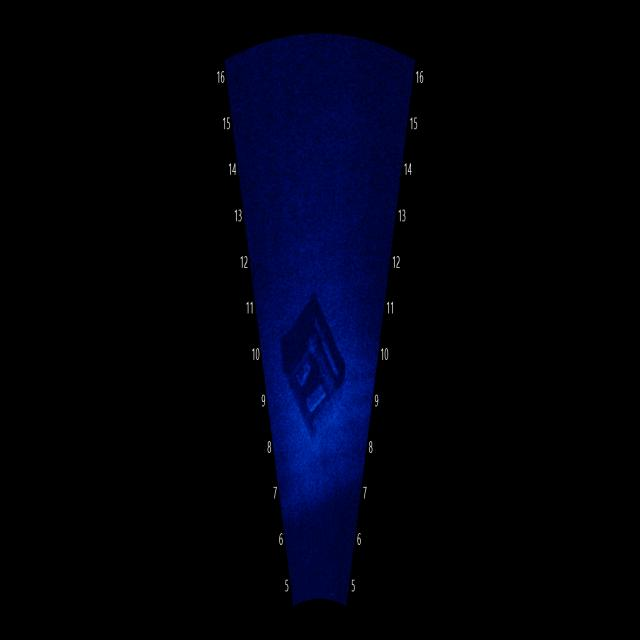square: (274, 290, 357, 448)
